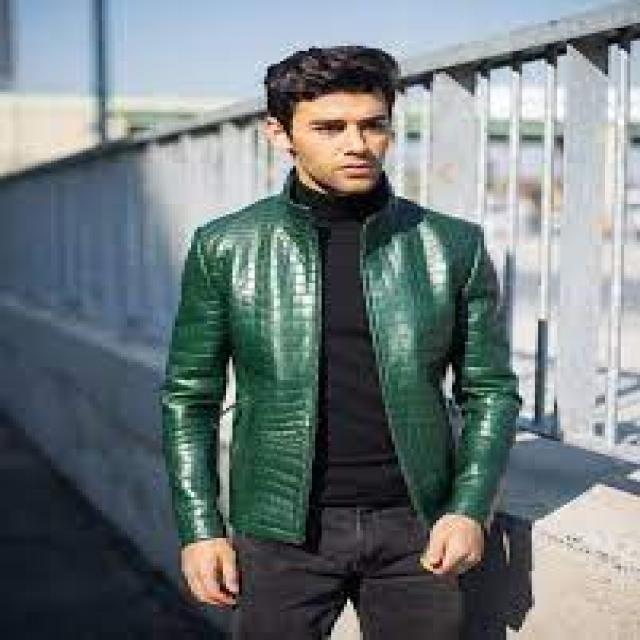Jacket: (170, 194, 514, 548)
